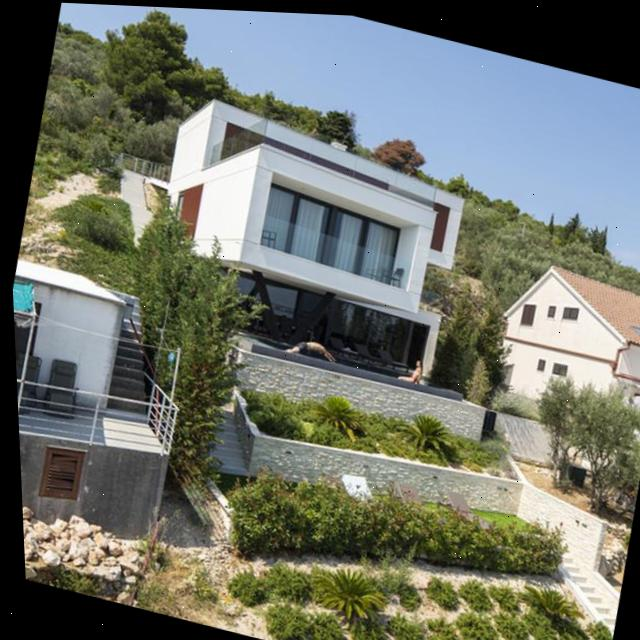building: (130, 85, 483, 395), (11, 258, 210, 557), (483, 251, 640, 423)
